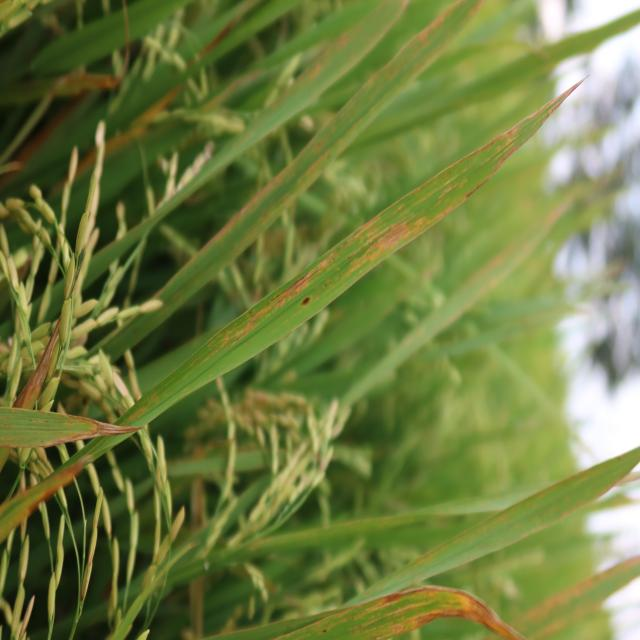Dom soc vi khuan: (277, 586, 523, 640), (216, 248, 339, 352), (344, 211, 445, 281), (530, 73, 591, 129), (119, 385, 172, 426), (482, 129, 518, 166), (412, 188, 439, 205), (443, 168, 468, 186), (438, 183, 461, 200)
